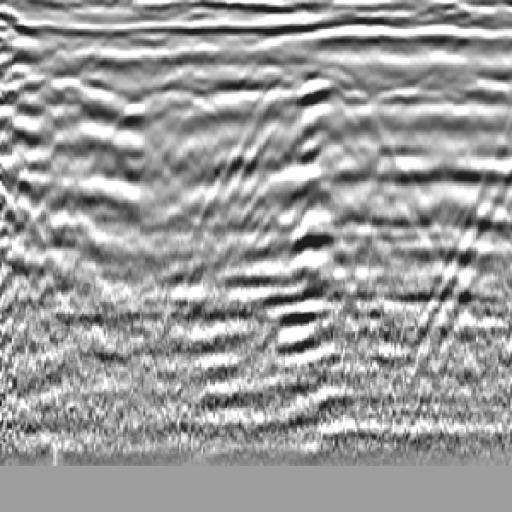metalic: (240, 60, 405, 182)
